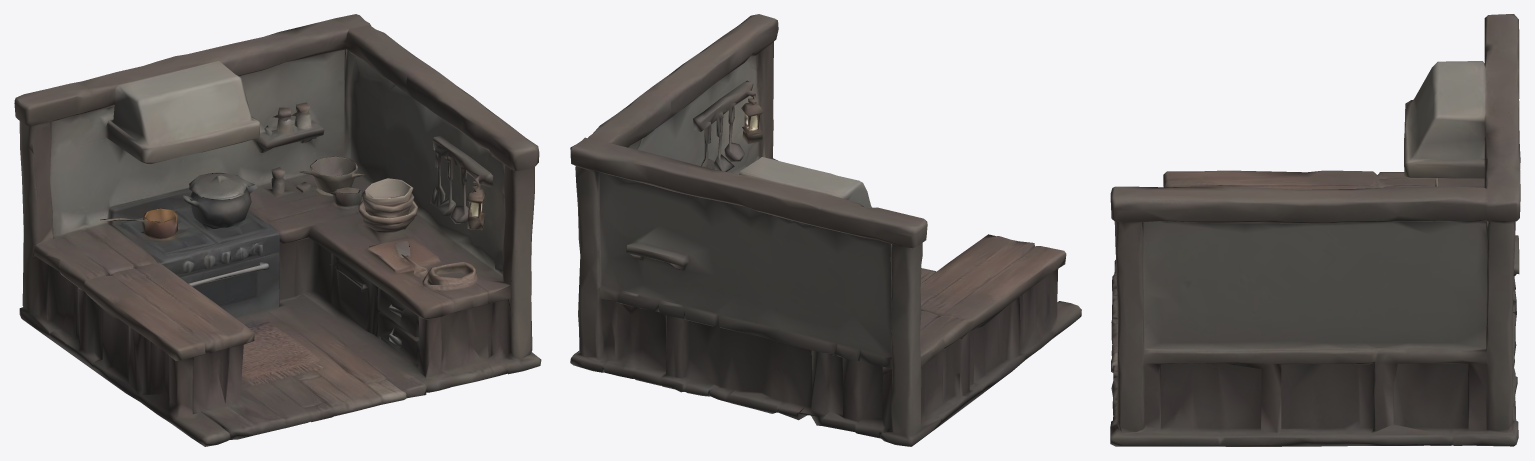
File: restaurant_kitchen.glb
The picture shows the model from 3 angles, left to right: view 1: azimuth 30°, elevation 25°; view 2: azimuth 150°, elevation 25°; view 3: azimuth 270°, elevation 25°; orthographic projection. The views are drawn at different scales.
Parts seen in each view (by area): view 1: tripo_node_50161ec6-e81f-433b-99a3-6fc7095b48e4; view 2: tripo_node_50161ec6-e81f-433b-99a3-6fc7095b48e4; view 3: tripo_node_50161ec6-e81f-433b-99a3-6fc7095b48e4.
Part boxes in pixels (x1,y1,x2,y2): tripo_node_50161ec6-e81f-433b-99a3-6fc7095b48e4: (14, 14, 541, 446); tripo_node_50161ec6-e81f-433b-99a3-6fc7095b48e4: (570, 14, 1081, 446); tripo_node_50161ec6-e81f-433b-99a3-6fc7095b48e4: (1110, 14, 1520, 446).
Size of the model in its own units: 1 by 0.6121 by 0.9183.
1 material, 1 textured.
